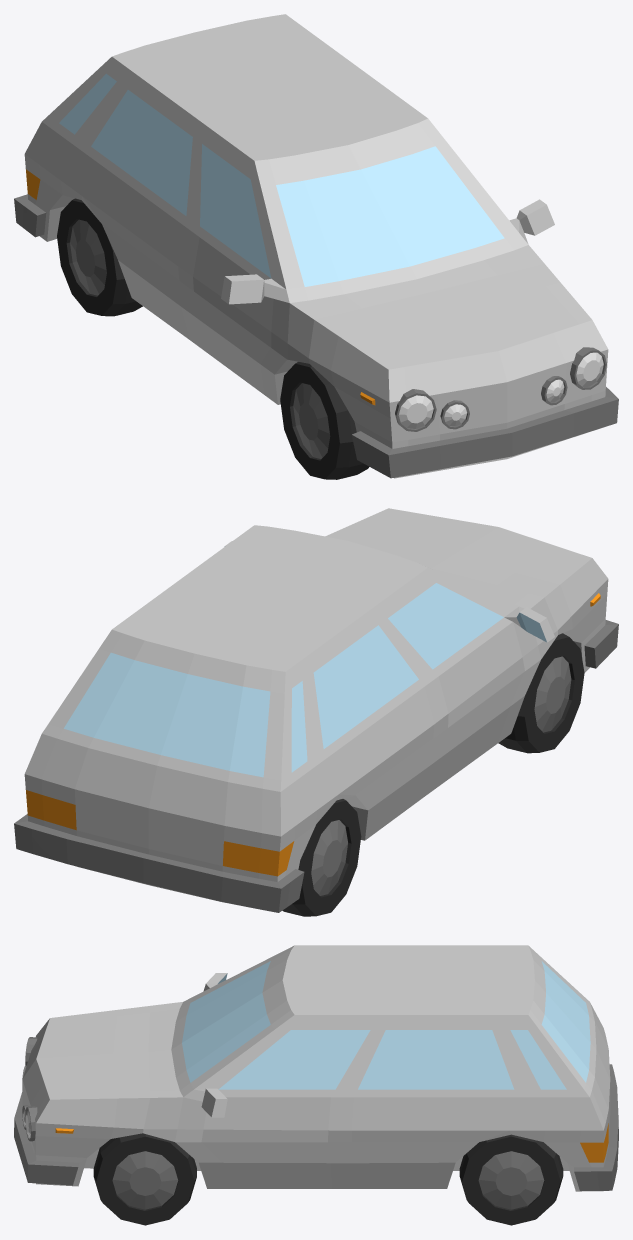
Rendered from car_grey_light.glb.
3 renders of one model, top to bottom at view 1: azimuth 30°, elevation 25°; view 2: azimuth 150°, elevation 25°; view 3: azimuth 270°, elevation 25°, orthographic. The views are drawn at different scales.
Parts seen in each view (by area): view 1: 1377 Car; view 2: 1377 Car; view 3: 1377 Car.
Boxes of the visible parts, box(x1,y1,x2,y2) form: 1377 Car: box(14, 14, 618, 479); 1377 Car: box(14, 508, 618, 916); 1377 Car: box(14, 945, 618, 1225).
Bounding box in the file's own units: 45.5 × 32.33 × 89.11.
Materials: 1 (1 with a texture image).
